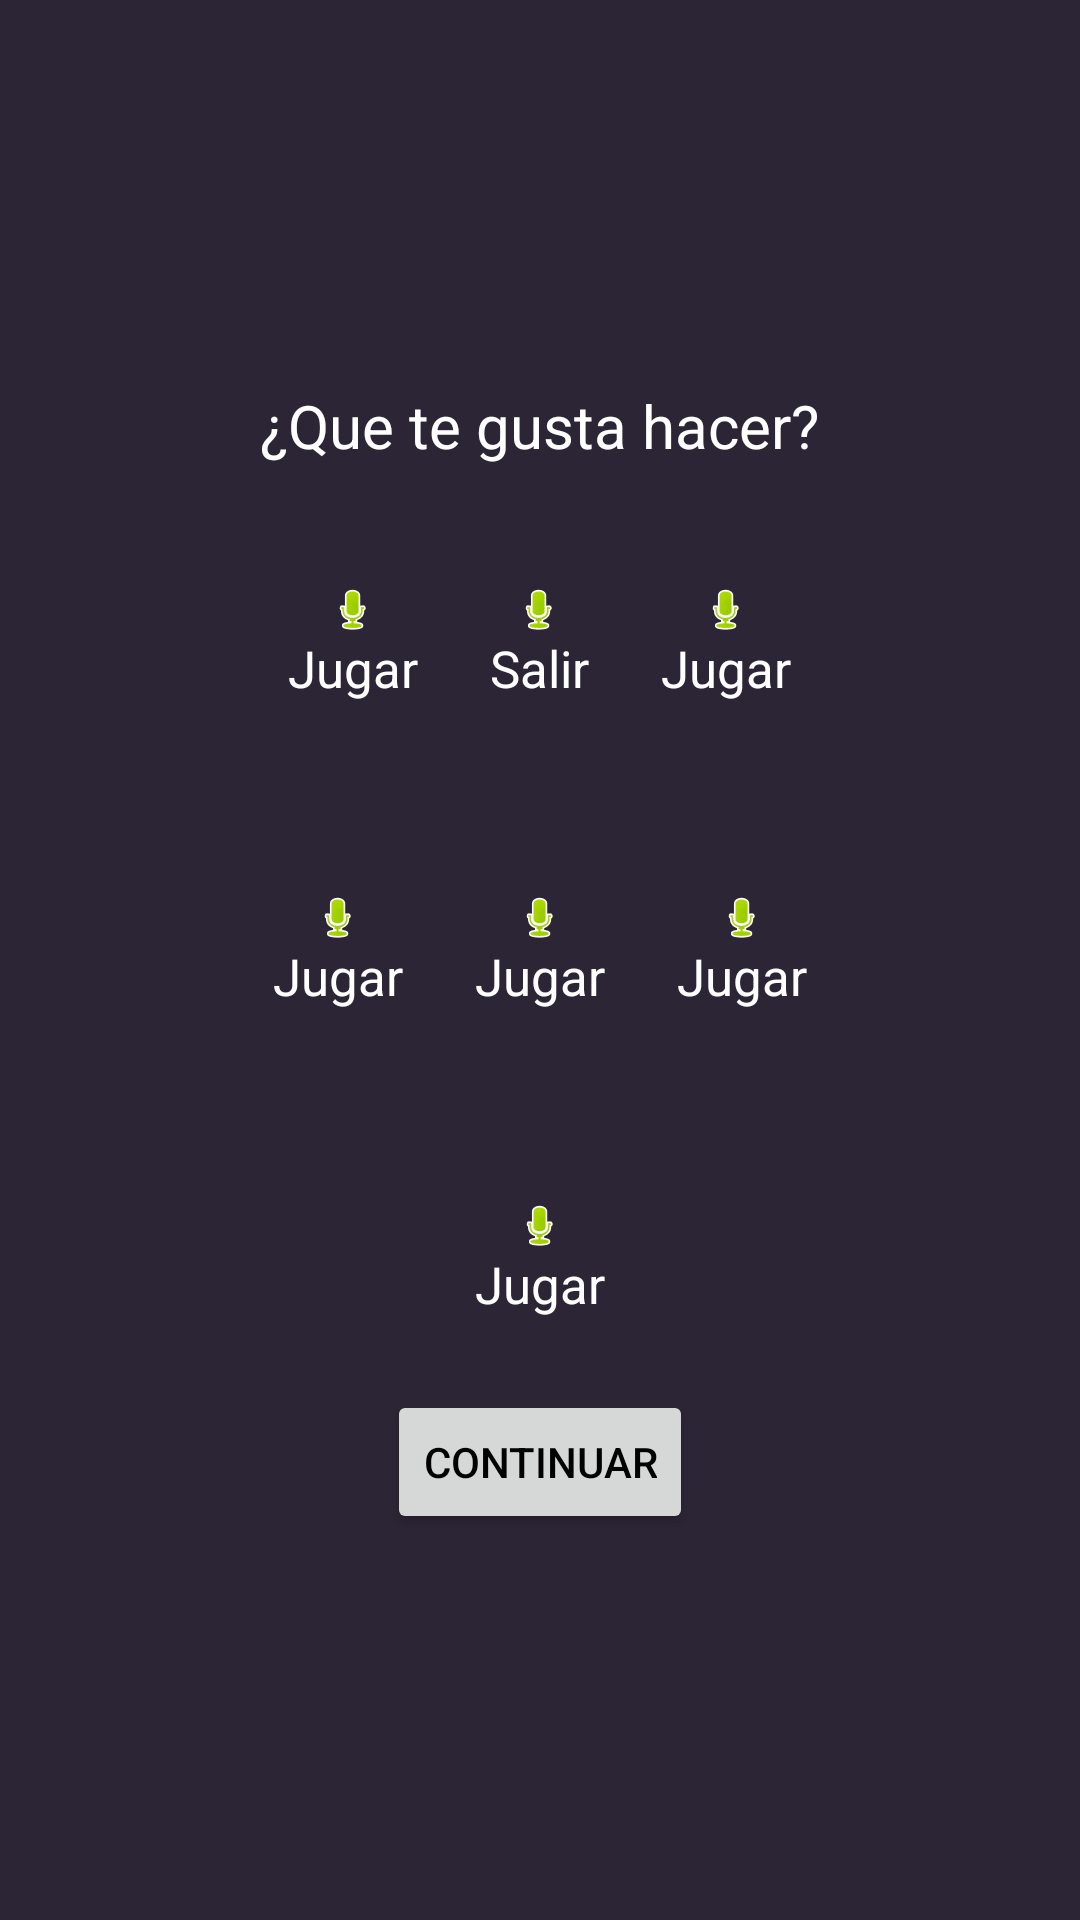

Icon bounding boxes for this 1080x1920 phone screenshot, format (x1, y1, x2, y2):
presence audio online: (339, 589, 366, 630), (525, 589, 552, 630), (712, 589, 739, 630), (324, 897, 351, 938), (526, 897, 553, 938), (728, 897, 755, 938), (526, 1205, 553, 1246)
